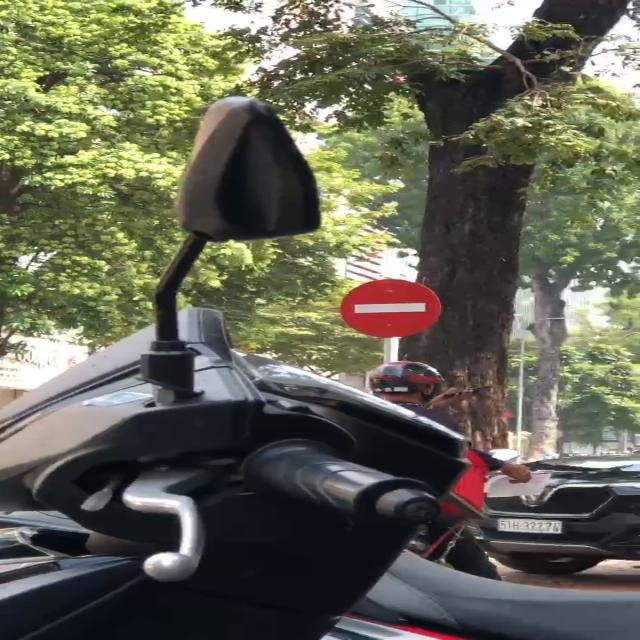Bien bao cam di nguoc chieu: (341, 276, 446, 340)
